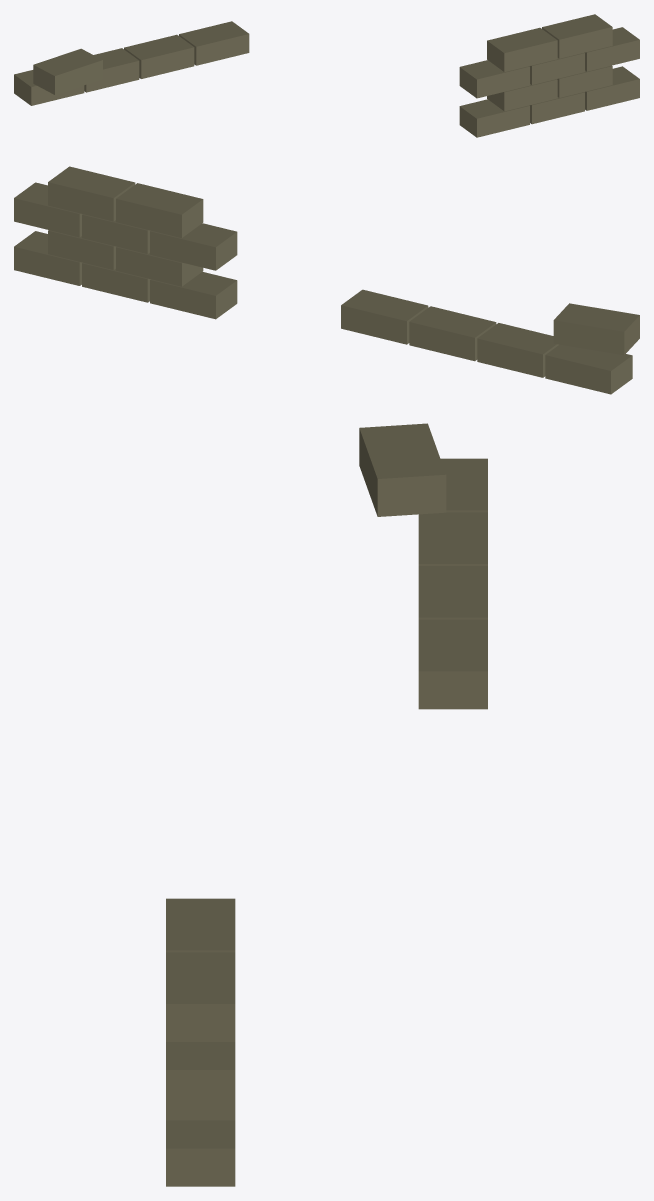
File: SM_ObraSacos_v0_10m_LOD0.fbx
3 views of the same model, one above another, from view 1: azimuth 30°, elevation 25°; view 2: azimuth 150°, elevation 25°; view 3: azimuth 270°, elevation 25° (orthographic). The views are drawn at different scales.
Parts seen in each view (by area): view 1: SM_obra_curso_v1_LOD0; view 2: SM_obra_curso_v1_LOD0; view 3: SM_obra_curso_v1_LOD0.
Boxes of the visible parts, x1,y1,x2,y2 form: SM_obra_curso_v1_LOD0: (14,14,639,137); SM_obra_curso_v1_LOD0: (14,166,639,394); SM_obra_curso_v1_LOD0: (166,423,487,1186).
Bounding box in the file's own units: 8.73 × 1.79 × 2.23.
